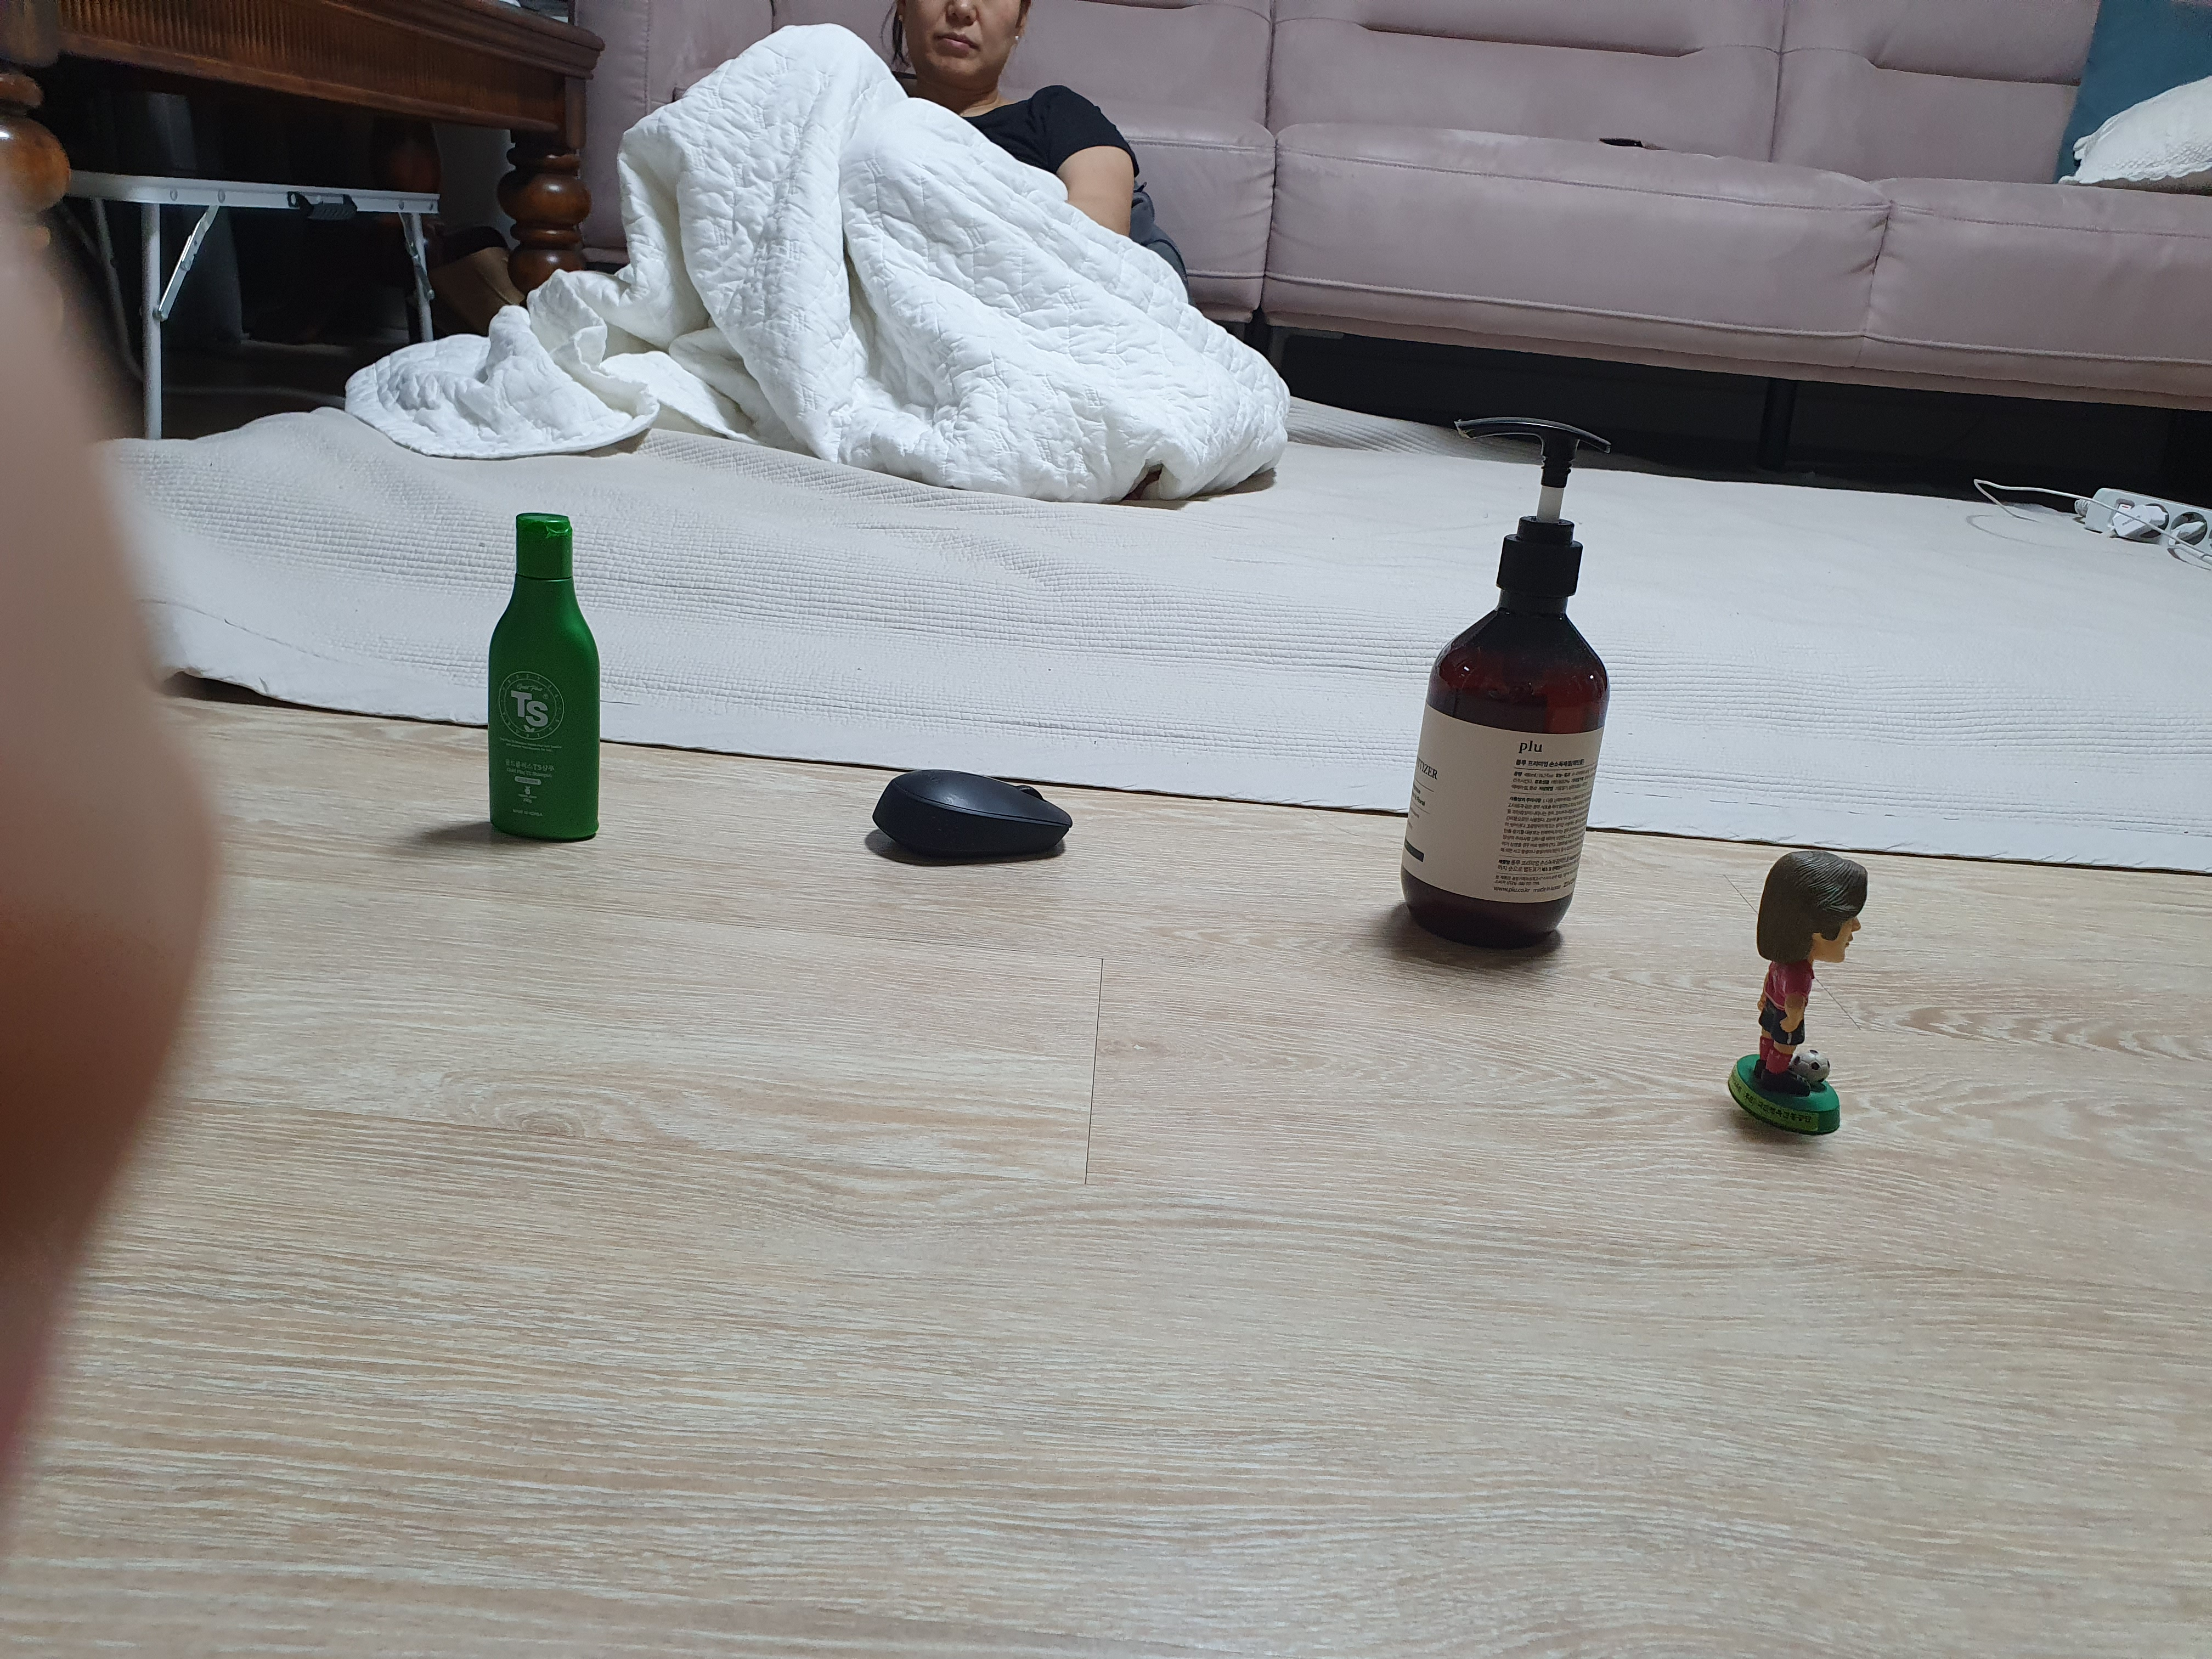bottle: (1385, 368, 1623, 981)
mouse: (852, 721, 1109, 892)
shampoo: (446, 497, 683, 889)
yoo: (1719, 821, 1907, 1178)
